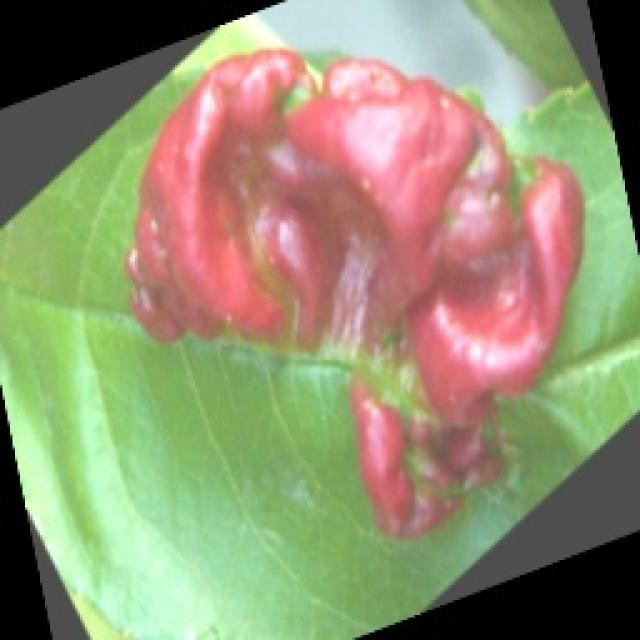peach_leaf_curl: (120, 45, 585, 540)
